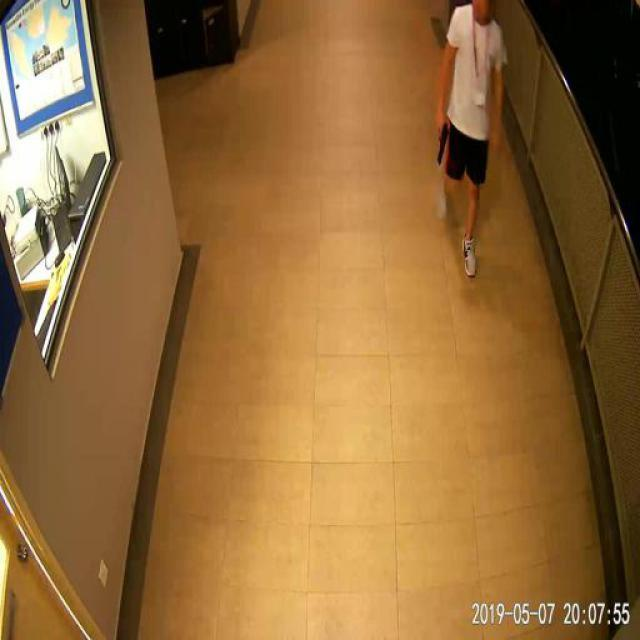weapon: (436, 122, 449, 166)
